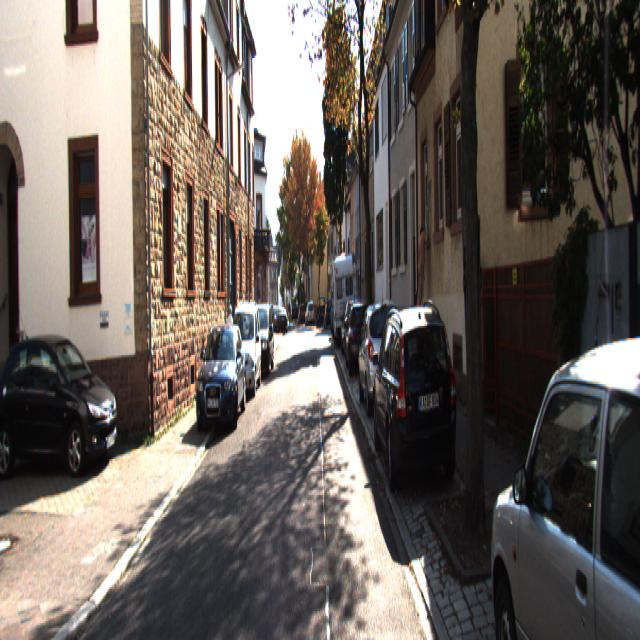Car: (481, 324, 639, 638), (369, 301, 462, 509), (0, 330, 121, 483), (193, 320, 247, 438), (356, 294, 404, 420), (224, 300, 261, 400), (340, 299, 370, 379), (248, 300, 276, 378), (338, 297, 366, 358), (275, 306, 288, 334)
DontCare: (291, 286, 326, 333)
Van: (330, 252, 358, 348)
